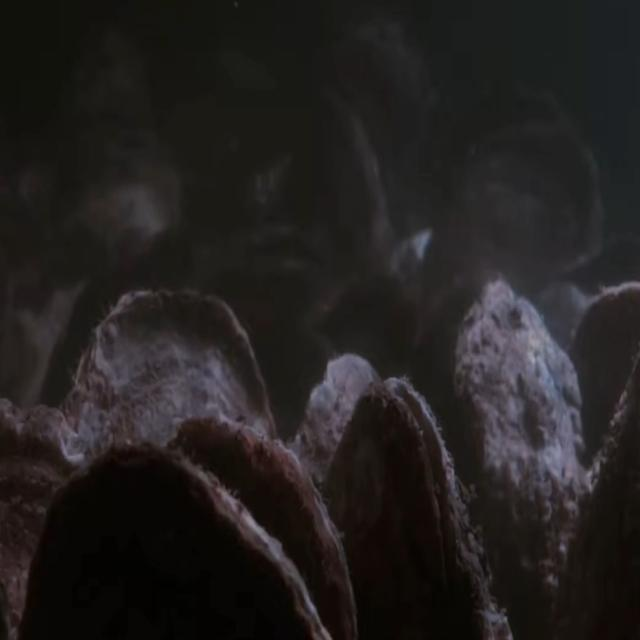Oyster-Closed: (22, 443, 335, 640), (167, 408, 356, 640), (0, 394, 88, 640)
Oyster-Indeterminate: (58, 284, 278, 640), (439, 278, 590, 640), (416, 108, 606, 342), (290, 353, 387, 640), (290, 84, 394, 320), (58, 131, 184, 276), (571, 282, 640, 501)
Oyster-Open: (322, 375, 514, 640), (206, 219, 338, 319)
